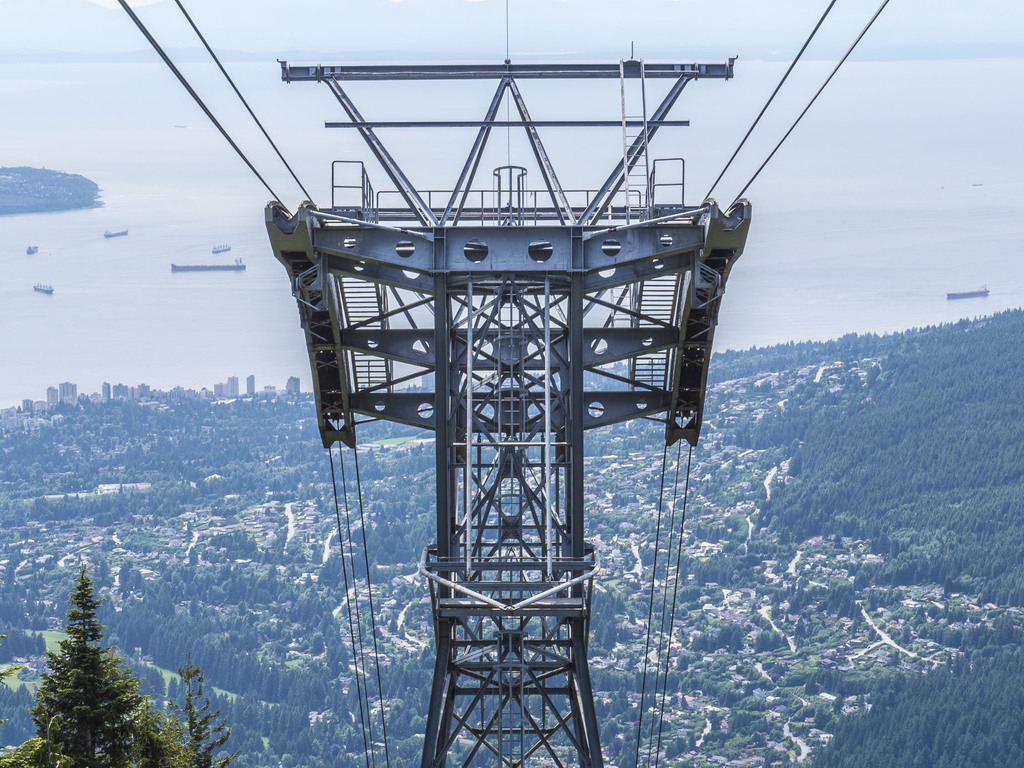Tree: (0, 557, 244, 768)
